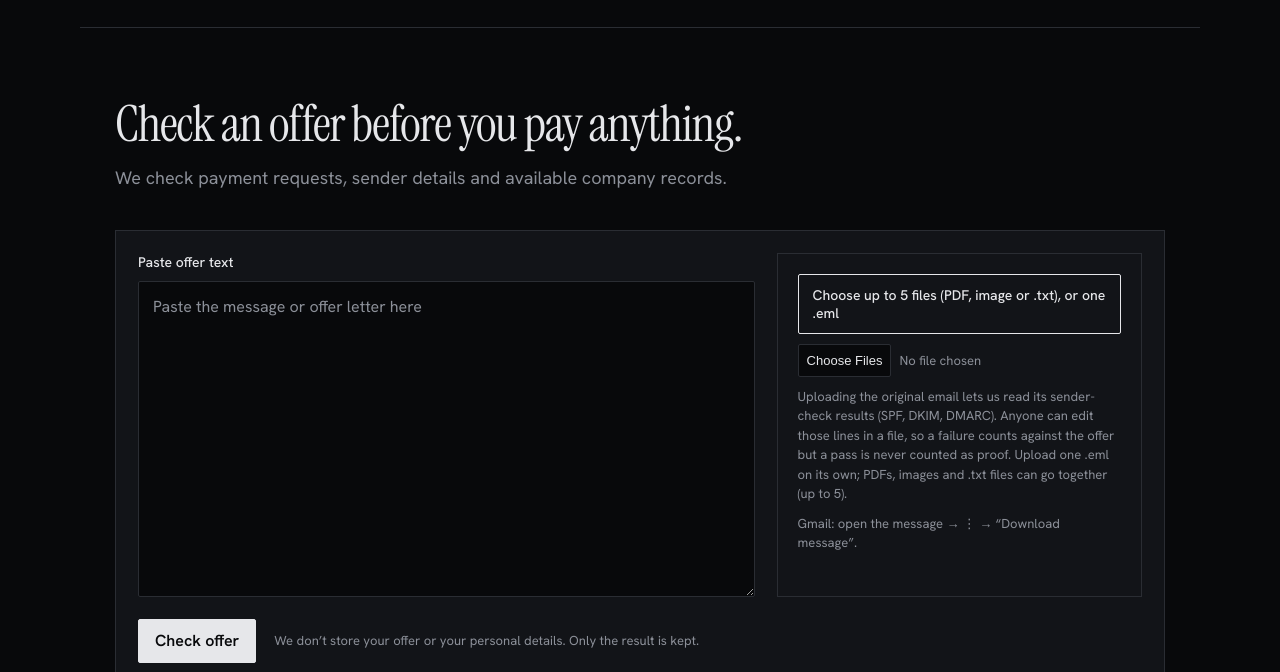
add evidence and check again › asks for something to add instead of sending an empty re-check
The width and height of the screenshot is (1280, 672).
Type "Test offer text" into the text box labelled "Paste offer text".
click(446, 439); type("Test offer text")  # box [138,281,755,597]
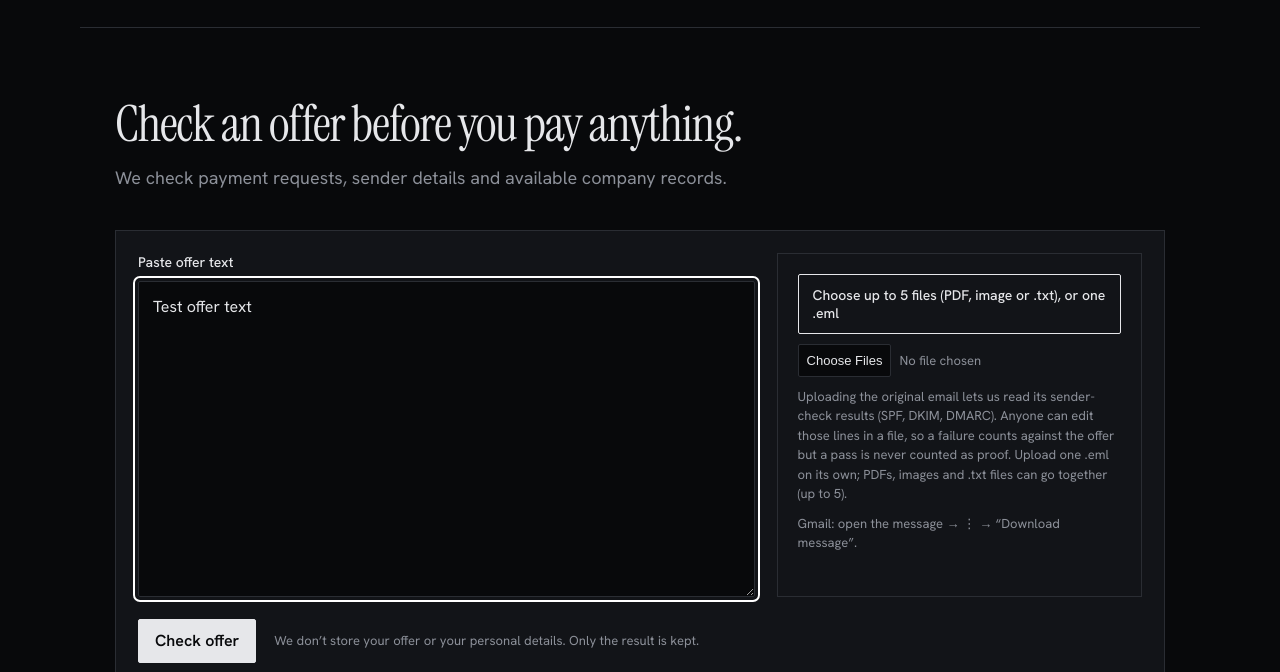
Click the button "Check offer".
click(197, 641)  # box [138,619,256,663]
(page scrolled)
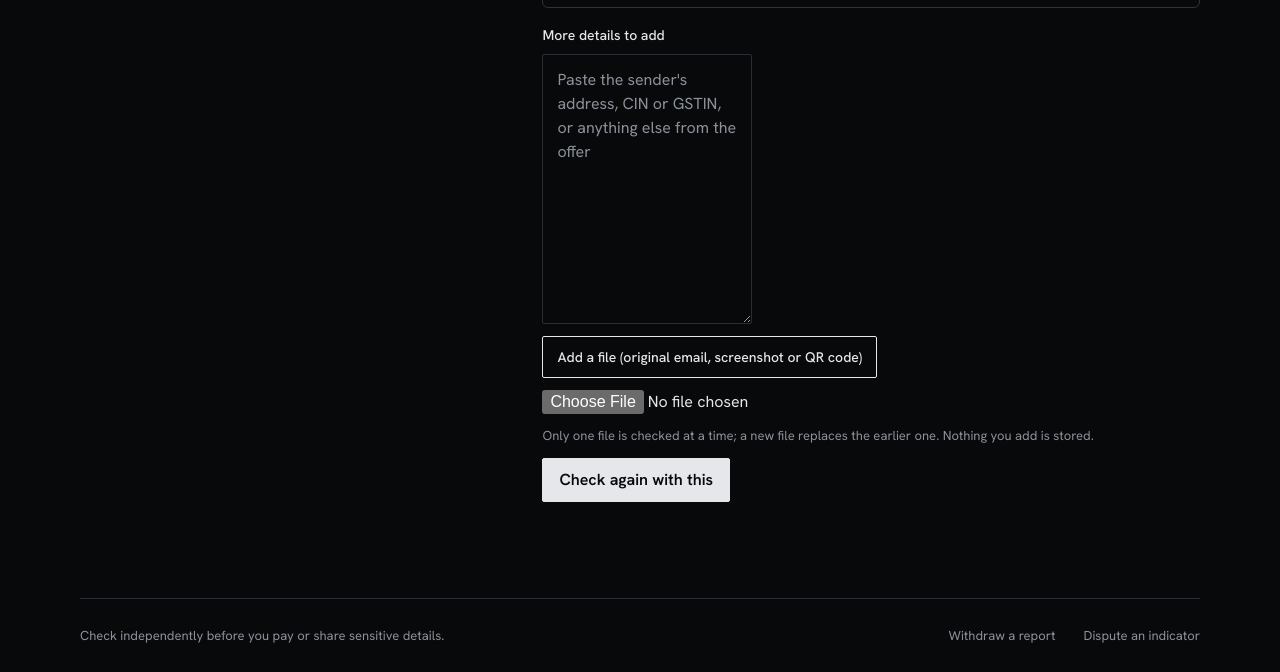
Click the button "Check again with this".
click(636, 480)  # box [542,458,730,502]
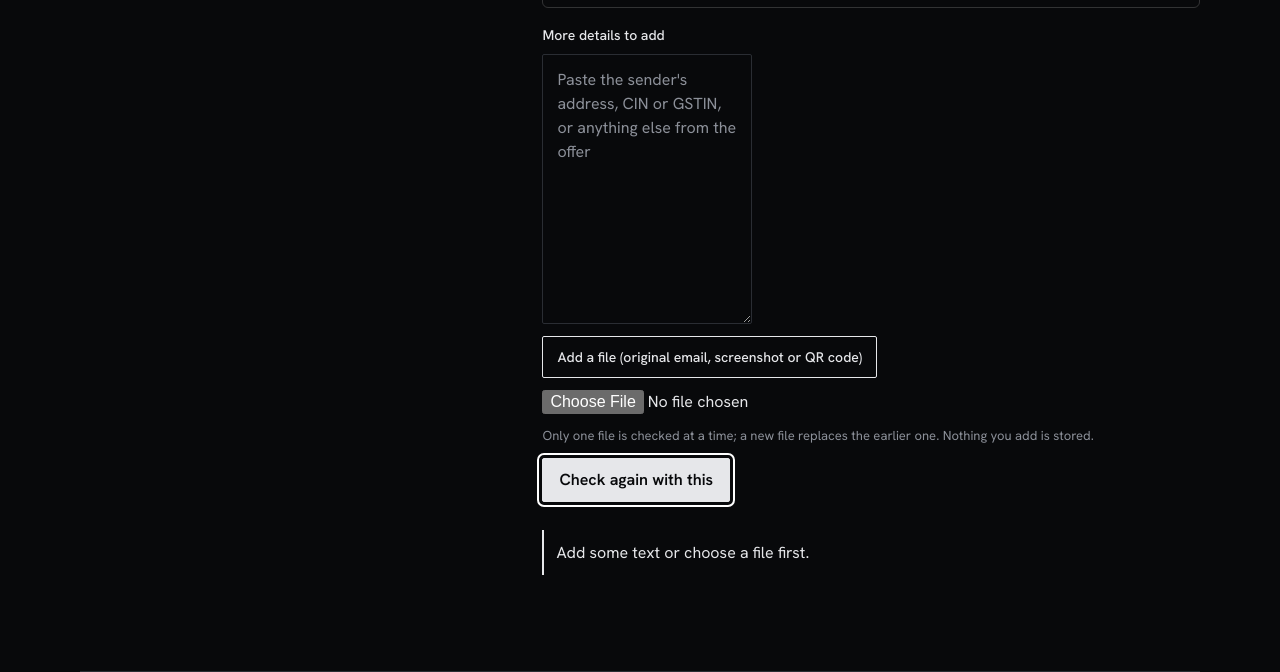
Result: the message shows "Add some text or choose a file" at [556,542,809,562]
